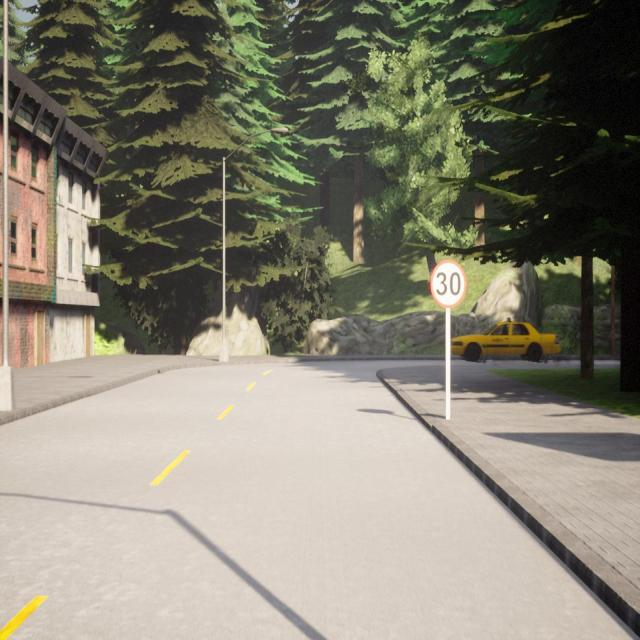Traffic_Signs: (429, 259, 468, 307)
Vehicle: (451, 320, 561, 361)
